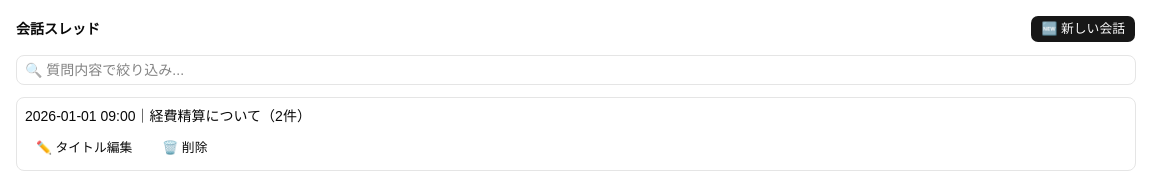
Test: ThreadPanel › タイトル編集を保存すると一覧が再取得される
Check: the button "2026-01-01 09:00｜経費精算について（2件）" is shown, box [25,106,1127,126]
Click the button "✏️ タイトル編集" at (84, 148), box [25,134,143,162]
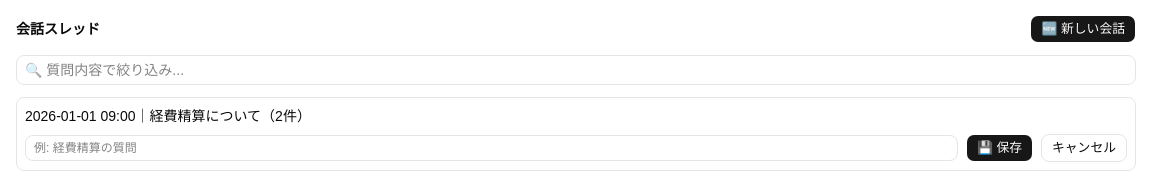
Type "新タイトル" into the field with placeholder "例: 経費精算の質問" at (491, 148), box [25,135,958,161]
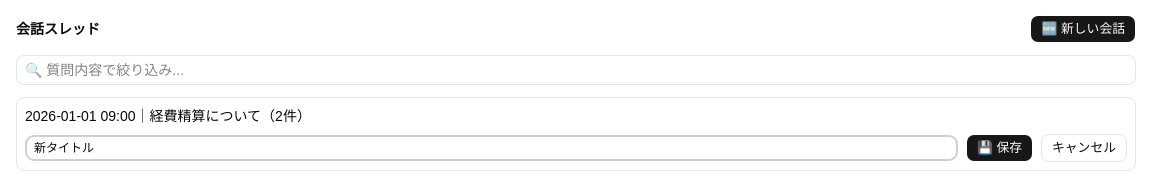
Click the button "💾 保存" at (999, 148), box [966,134,1033,162]
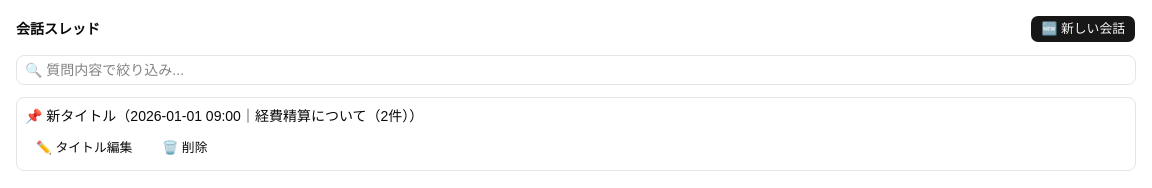
Check: the button "📌 新タイトル（2026-01-01 09:00｜経費精算について（2件））" is shown, box [25,106,1127,126]
